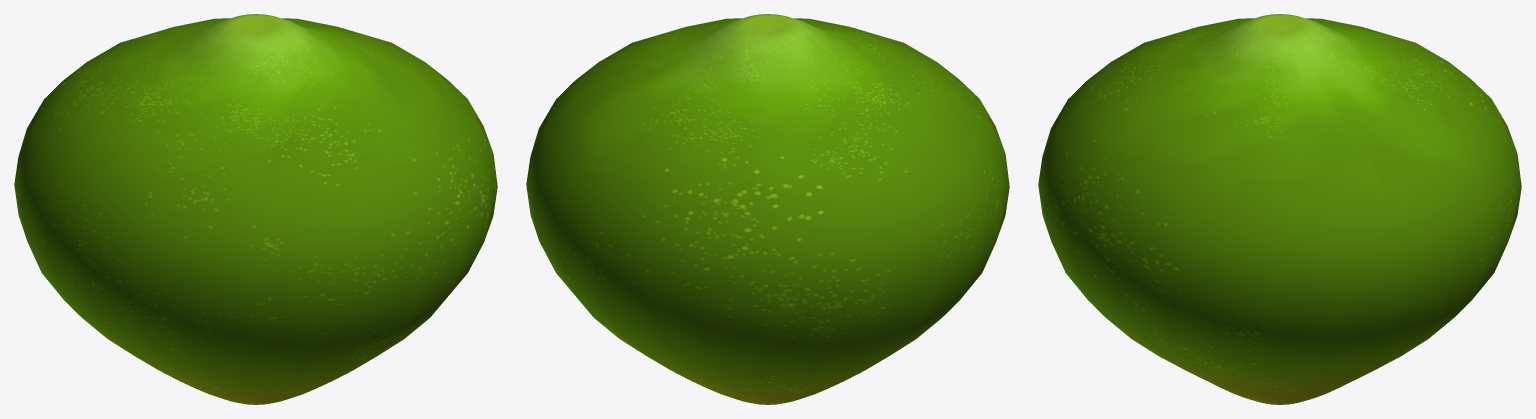
Rendered from Fruit3.fbx.
3 views of the same model, side by side, from view 1: azimuth 30°, elevation 25°; view 2: azimuth 150°, elevation 25°; view 3: azimuth 270°, elevation 25° (orthographic).
Parts seen in each view (by area): view 1: Fruit3; view 2: Fruit3; view 3: Fruit3.
Part boxes in pixels (x1,y1,x2,y2): Fruit3: (14,14,497,404); Fruit3: (526,14,1009,404); Fruit3: (1038,14,1521,404).
Bounding box in the file's own units: 211 × 179 × 211.
1 material, 1 textured.
